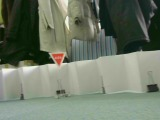stop: (48, 52, 67, 68)
